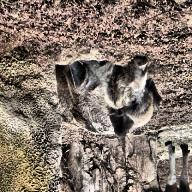boar: (52, 39, 161, 153)
